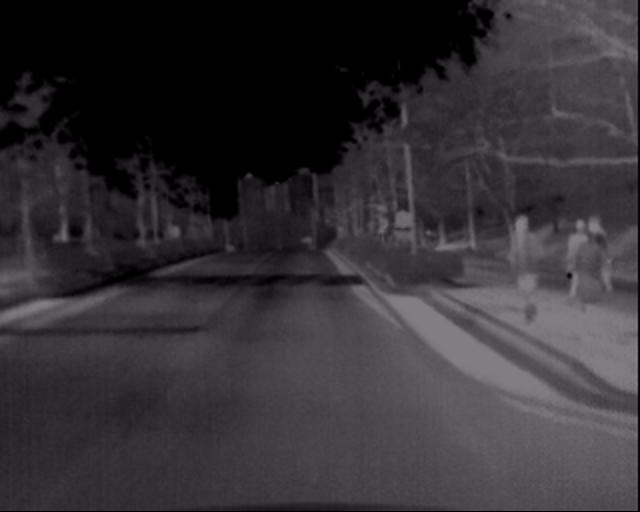person: (513, 214, 548, 329), (590, 226, 621, 342), (574, 218, 600, 316)
